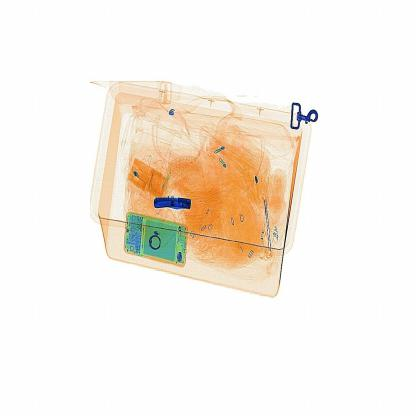knife: (152, 189, 193, 216)
